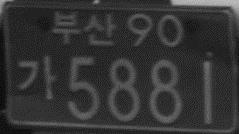0: (156, 12, 184, 47)
1: (196, 58, 220, 126)
5: (65, 55, 101, 120)
8: (147, 58, 183, 125), (106, 56, 140, 124)
9: (126, 11, 154, 48)
가: (14, 52, 58, 102)
부산_O: (51, 8, 117, 48)
